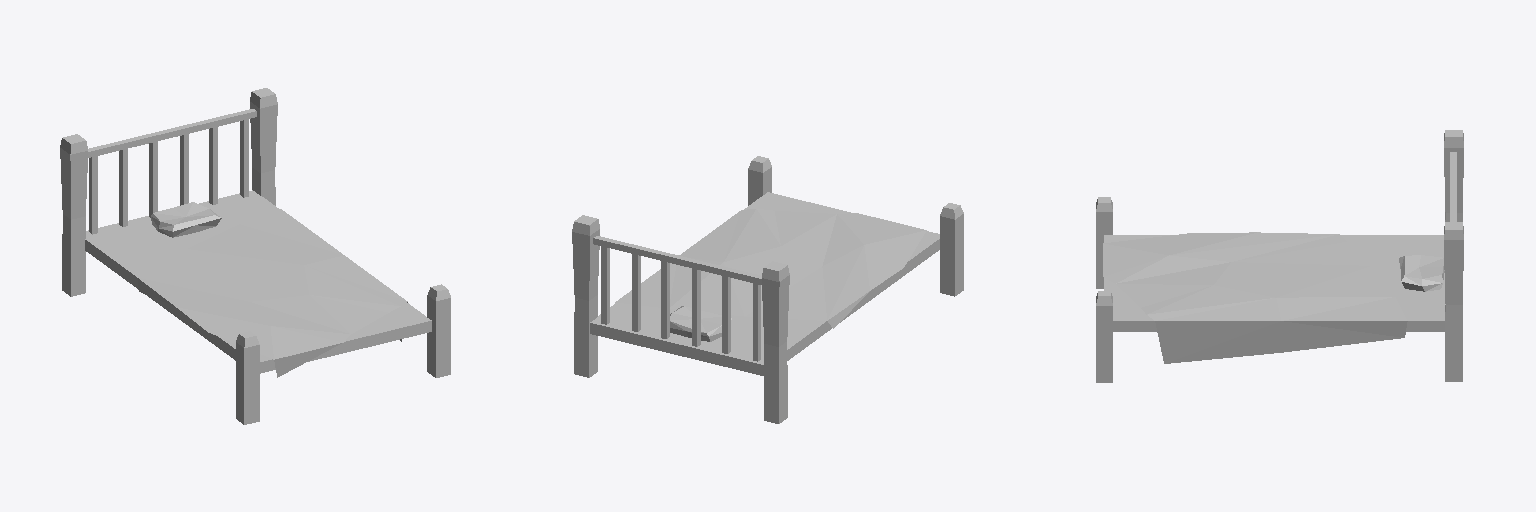
The model's file is bed2.obj.
The picture shows the model from 3 angles: view 1: azimuth 30°, elevation 25°; view 2: azimuth 150°, elevation 25°; view 3: azimuth 270°, elevation 25°; orthographic projection.
Visible parts, largest first — view 1: Bed_2_Cube.003; view 2: Bed_2_Cube.003; view 3: Bed_2_Cube.003.
Boxes of the visible parts, <box> form: Bed_2_Cube.003: <box>60,88,450,424</box>; Bed_2_Cube.003: <box>572,156,963,423</box>; Bed_2_Cube.003: <box>1096,130,1463,382</box>.
Bounding box in the file's own units: 1.55 × 1.09 × 2.39.